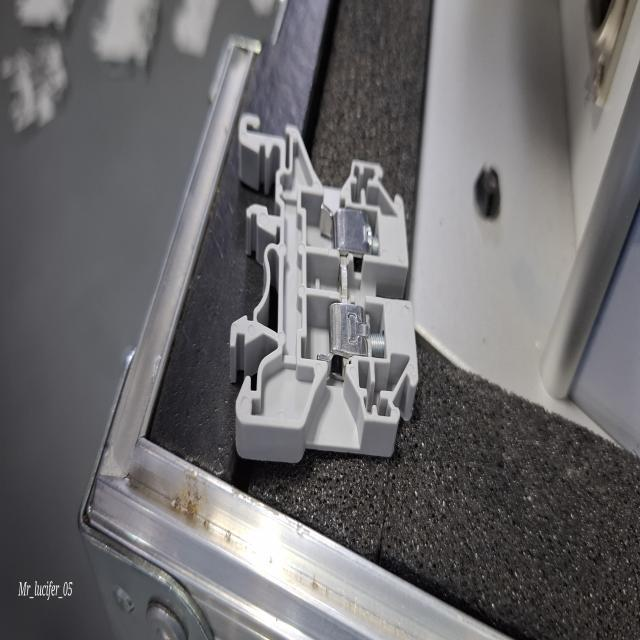Pass: (229, 105, 422, 472)
